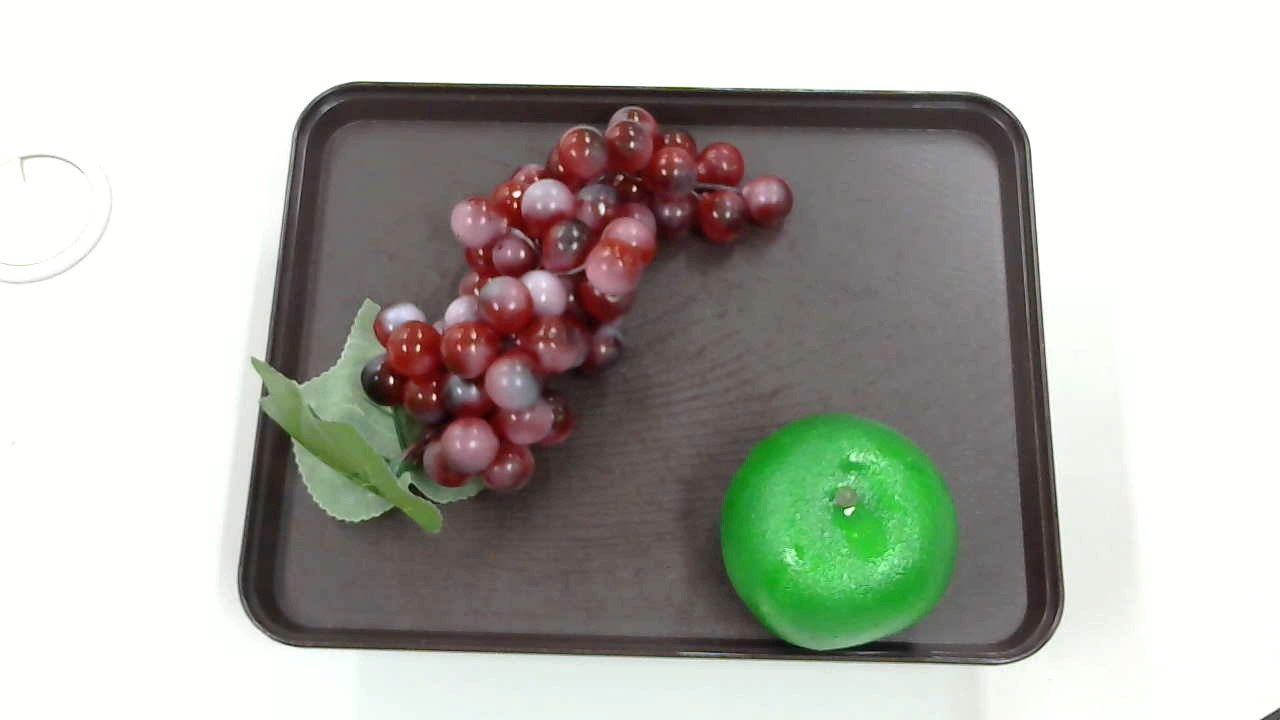grape: (254, 102, 793, 534)
green orange: (720, 415, 959, 651)
